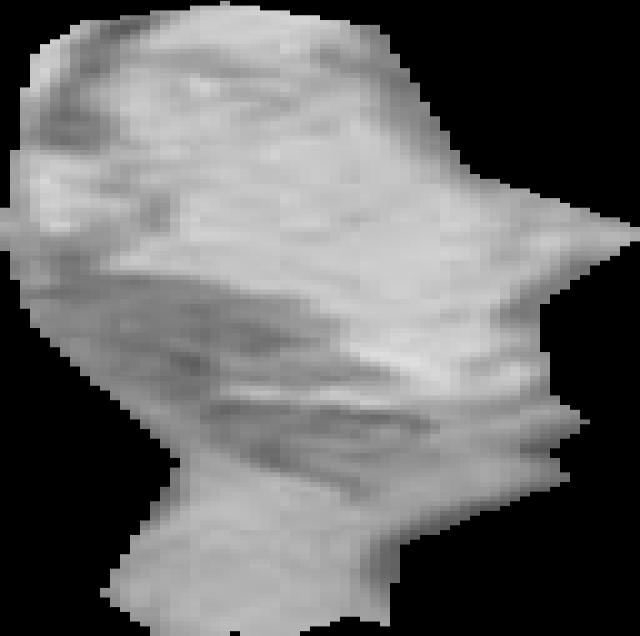tumor_good_chance: (0, 1, 640, 636)
